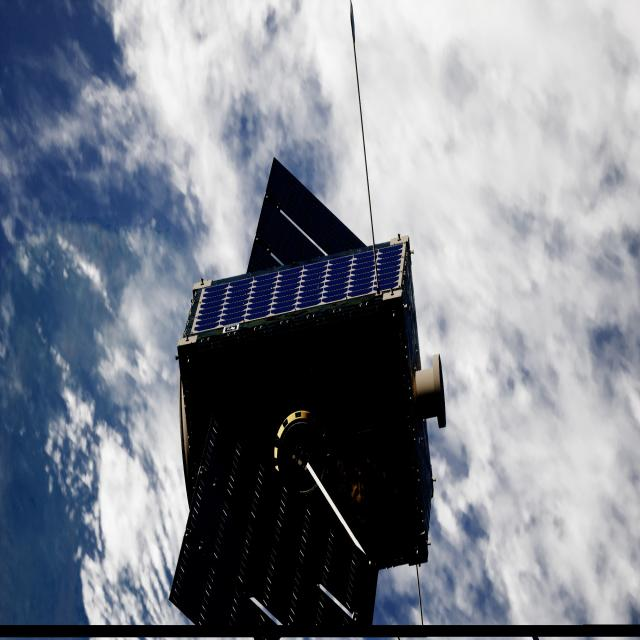medium_debris: (171, 163, 446, 640)
